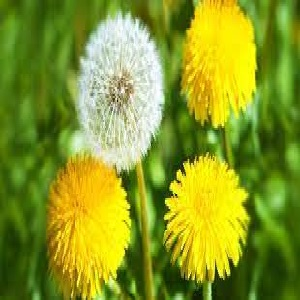dandelion: (41, 163, 132, 293), (167, 164, 245, 272), (187, 7, 255, 114)
